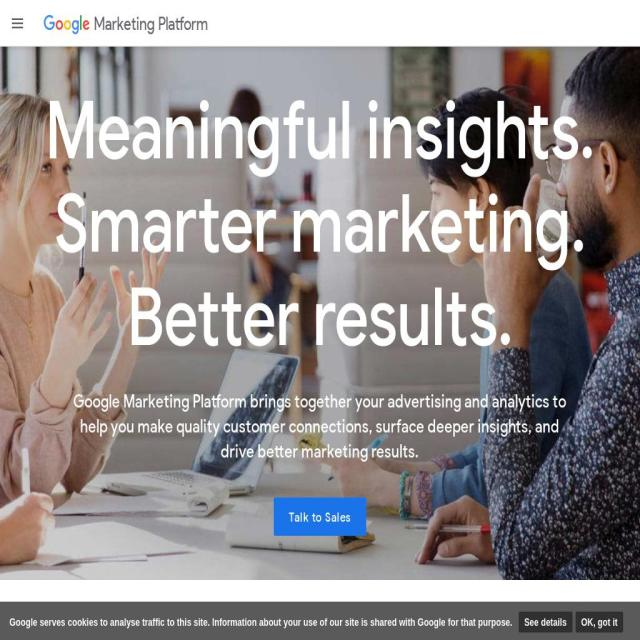button: (274, 497, 366, 536), (44, 4, 90, 44), (518, 612, 573, 632), (4, 5, 31, 42), (575, 612, 623, 632)
heading: (45, 81, 595, 181), (53, 174, 586, 274), (127, 268, 513, 368), (69, 389, 570, 464)
image: (0, 47, 640, 580), (44, 15, 90, 35), (10, 14, 25, 34)
text: (10, 616, 512, 628), (94, 13, 208, 35)
